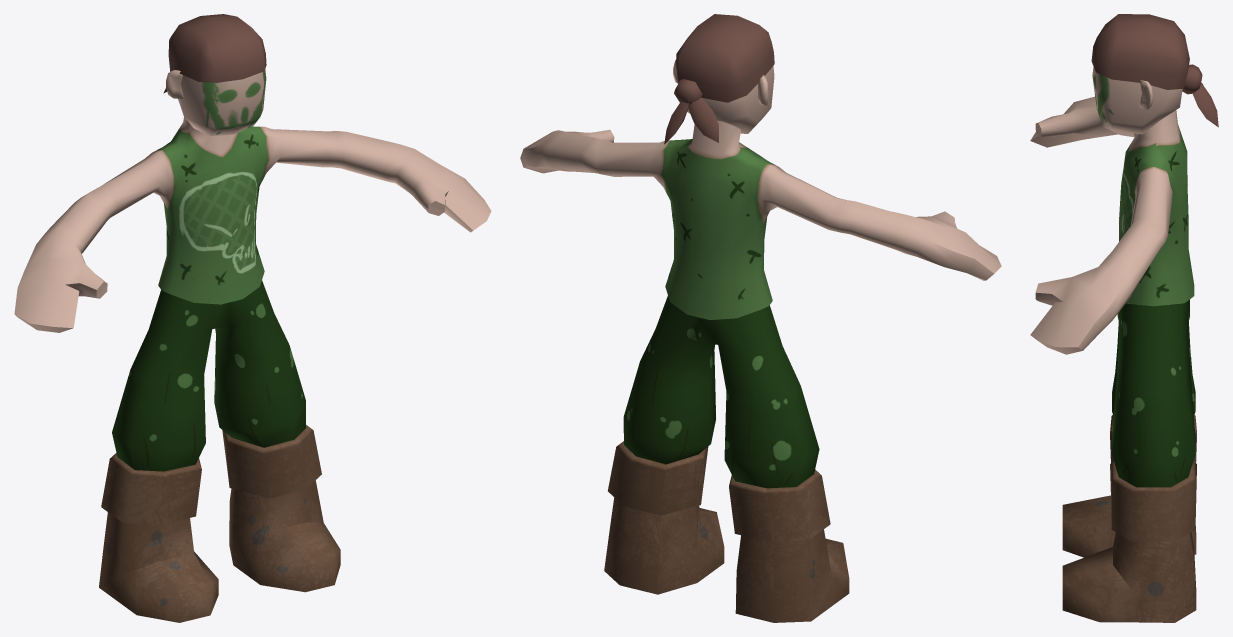
3 renders of one model, left to right at view 1: azimuth 30°, elevation 25°; view 2: azimuth 150°, elevation 25°; view 3: azimuth 270°, elevation 25°, orthographic.
Visible parts, largest first — view 1: Character15, Character12; view 2: Character15, Character12, pPlane2; view 3: Character15, Character12, pPlane3, pSphere1.
Boxes of the visible parts, x1,y1,x2,y2 form: Character15: (14,69,491,622); Character12: (168,14,266,82); Character15: (520,60,1001,622); Character12: (676,14,774,102); pPlane2: (688,98,718,142); Character15: (1030,67,1196,622); Character12: (1091,14,1189,89); pPlane3: (1192,84,1218,127); pSphere1: (1182,64,1202,94).
Size of the model in its own units: 162 by 182 by 56.57.
2 materials, 1 textured.
